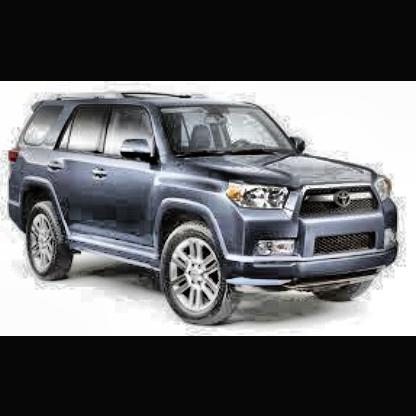Toyota 4Runner SUV 2012: (7, 89, 404, 331)
